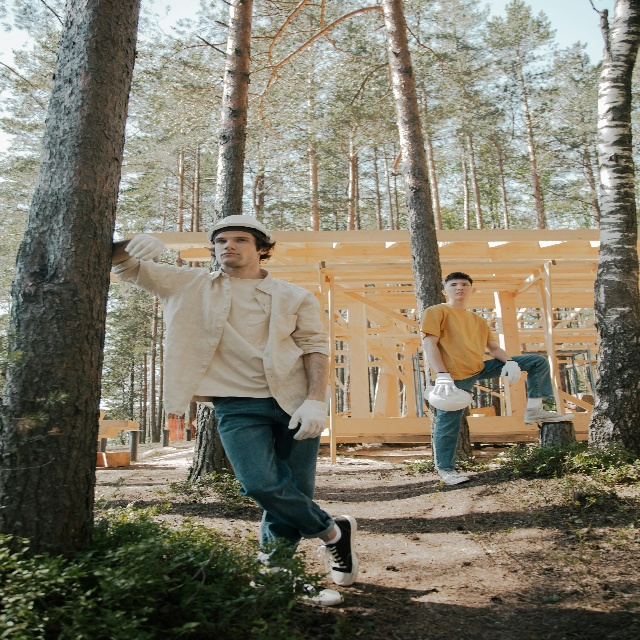Guantes: (288, 399, 326, 441), (123, 233, 165, 263), (432, 371, 458, 397), (499, 359, 521, 384)
